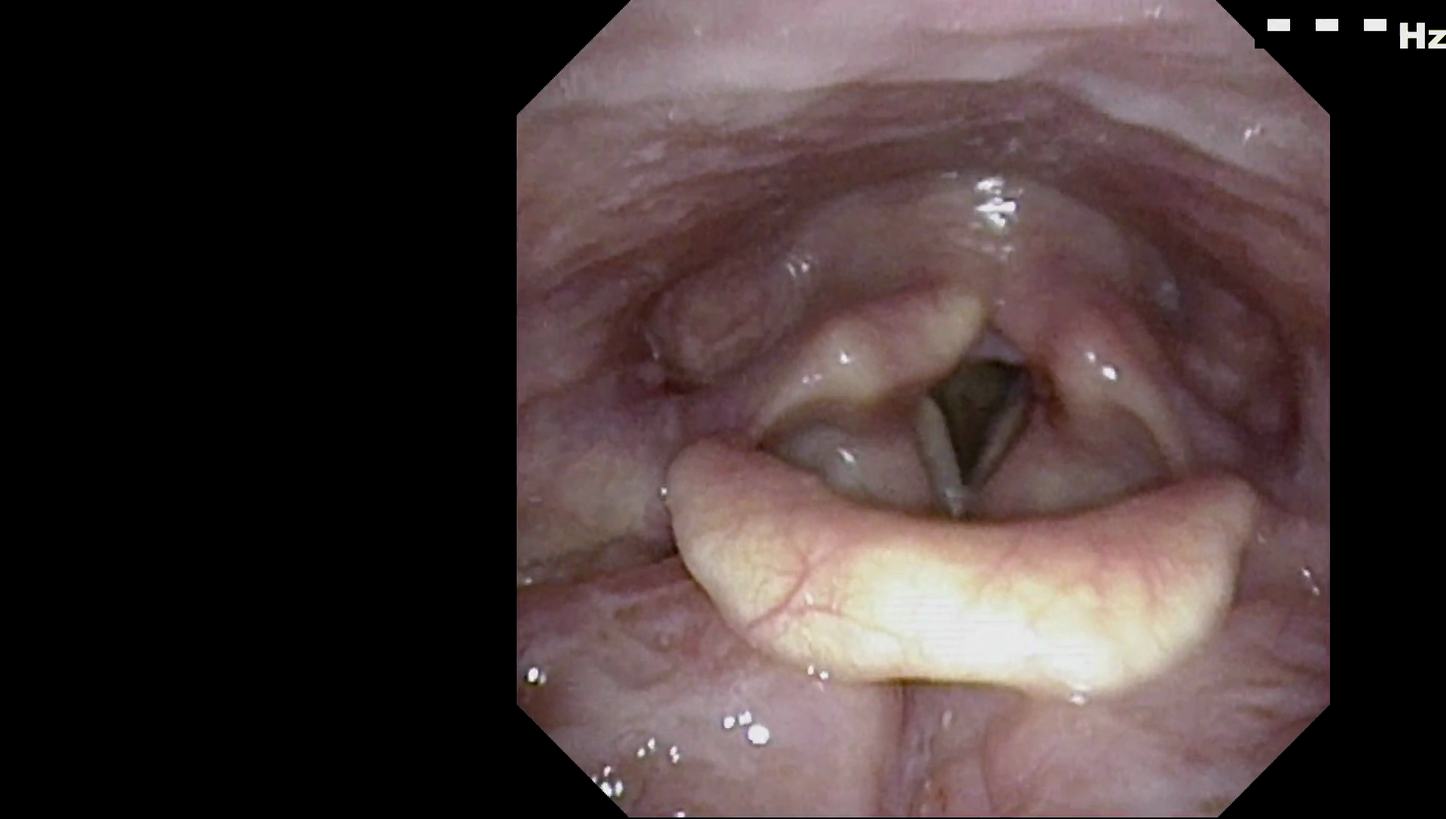trachea: (895, 346, 1050, 529)
